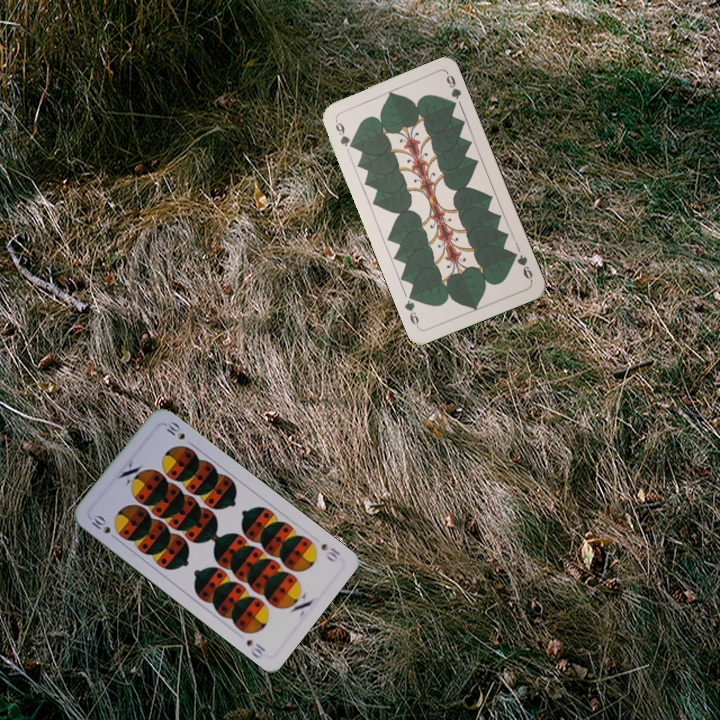G9: (508, 248, 535, 284), (331, 115, 356, 151)
S10: (87, 510, 121, 543), (317, 539, 343, 565)
